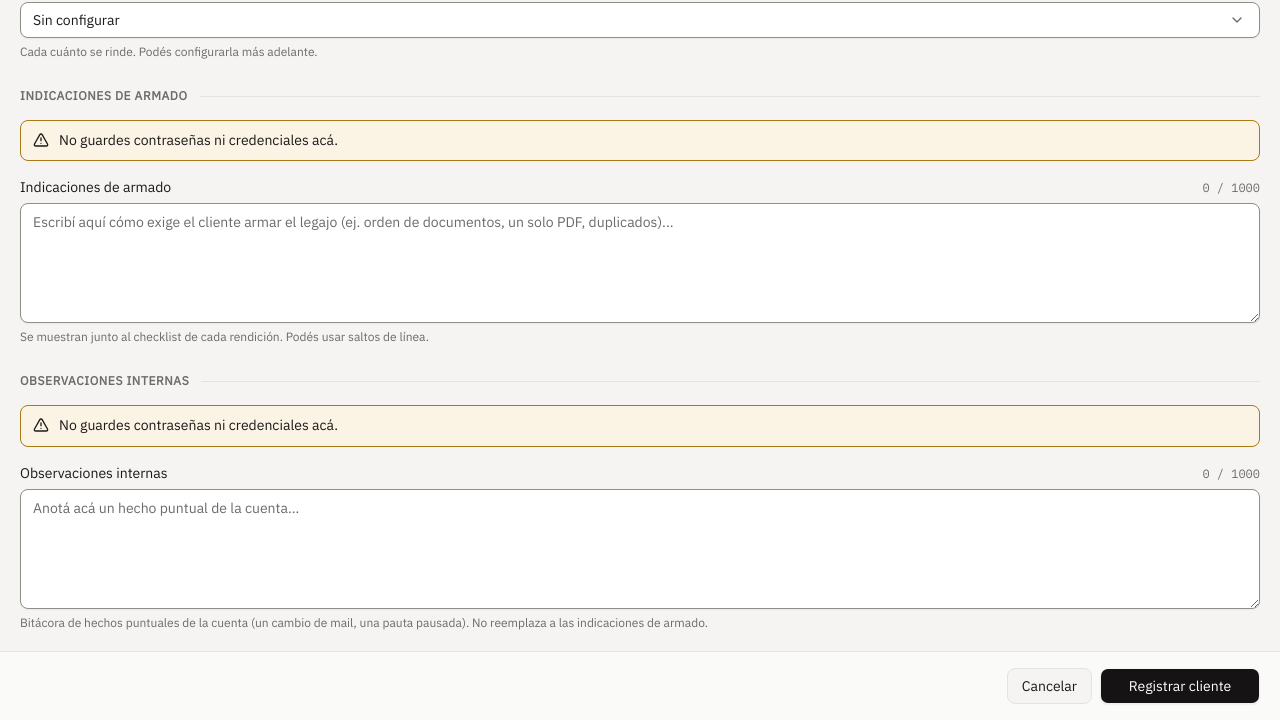
Test: ClienteForm: después de un primer envío fallido › revalida mientras se corrige: el error se va apenas el valor es válido, sin salir del campo
(page scrolled)
Click the button "Registrar cliente". click: {"x": 1180, "y": 686}
box: [1100,668,1260,704]
(page scrolled)
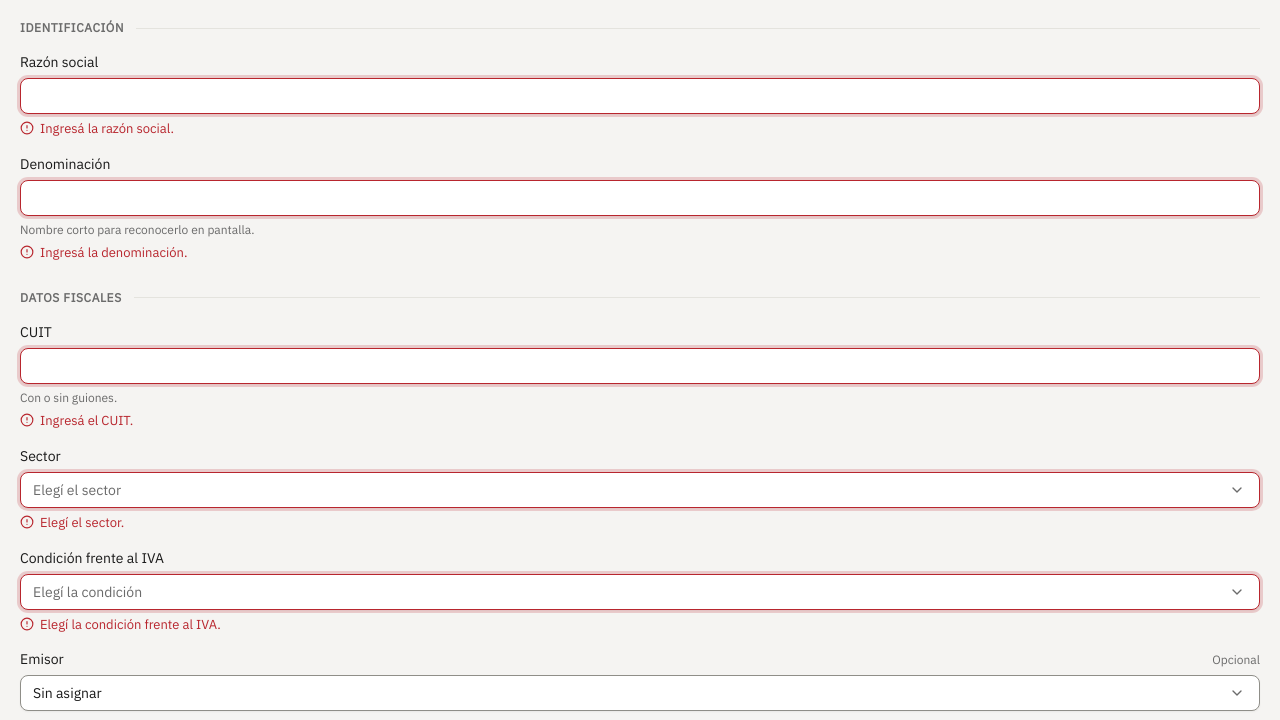
Now the text "Ingresá la razón social." is shown, box [20,120,174,137]
Type "Empresa de Ejemplo" into the field labelled "Razón social". click: {"x": 640, "y": 96}
box: [20,78,1260,114]
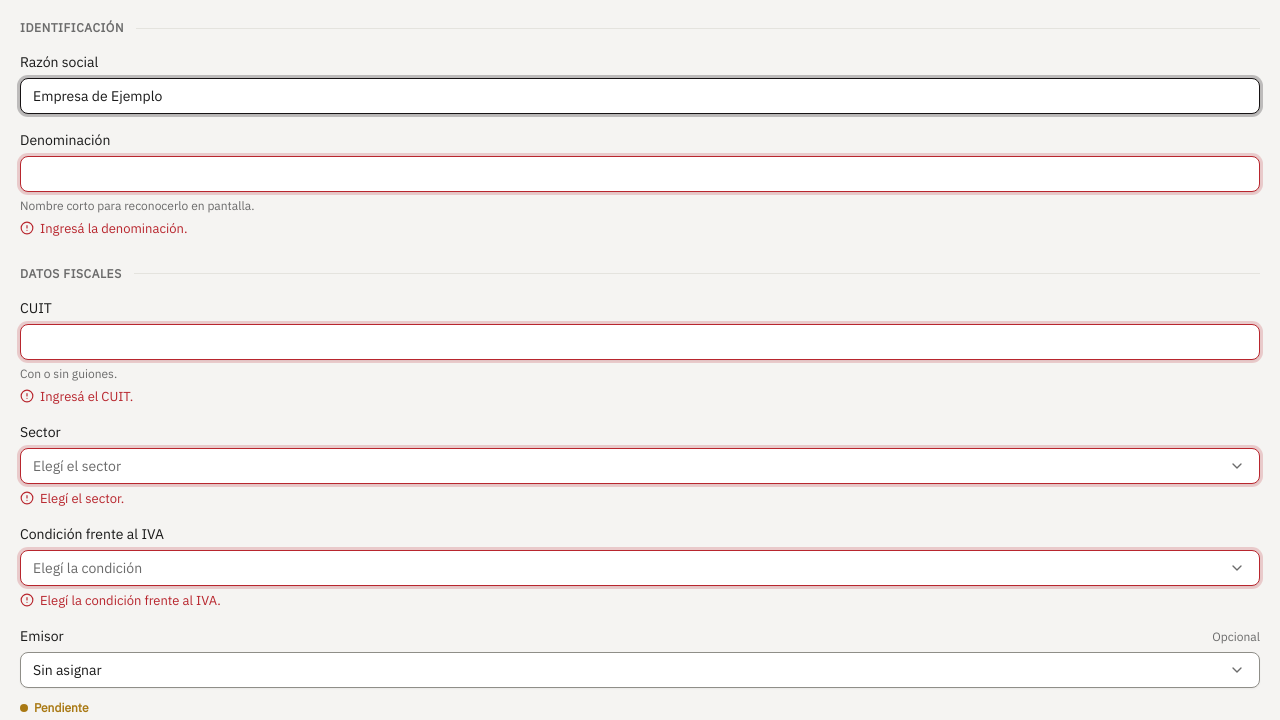
Now the text "Ingresá la razón social." is gone
